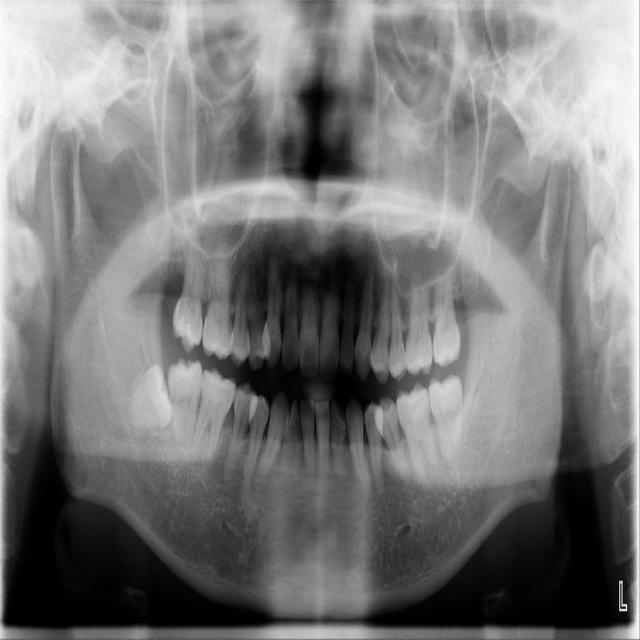Filling: (172, 317, 192, 340)
impacted tooth: (122, 368, 172, 427)
